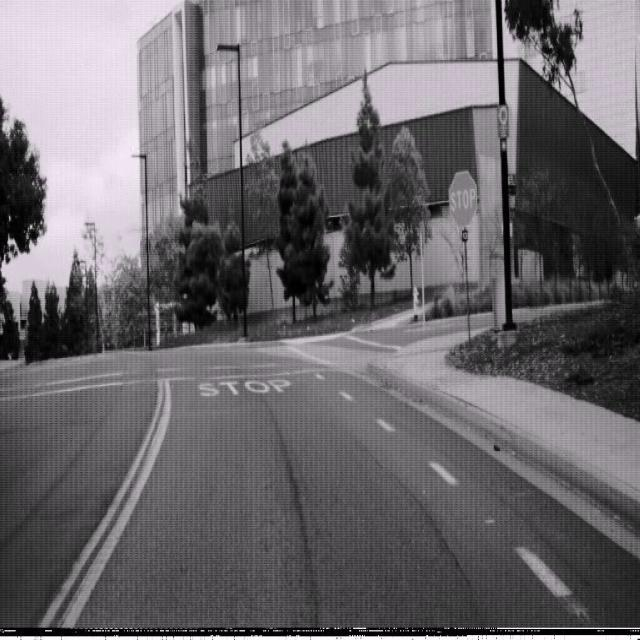stop_sign: (448, 169, 478, 229)
